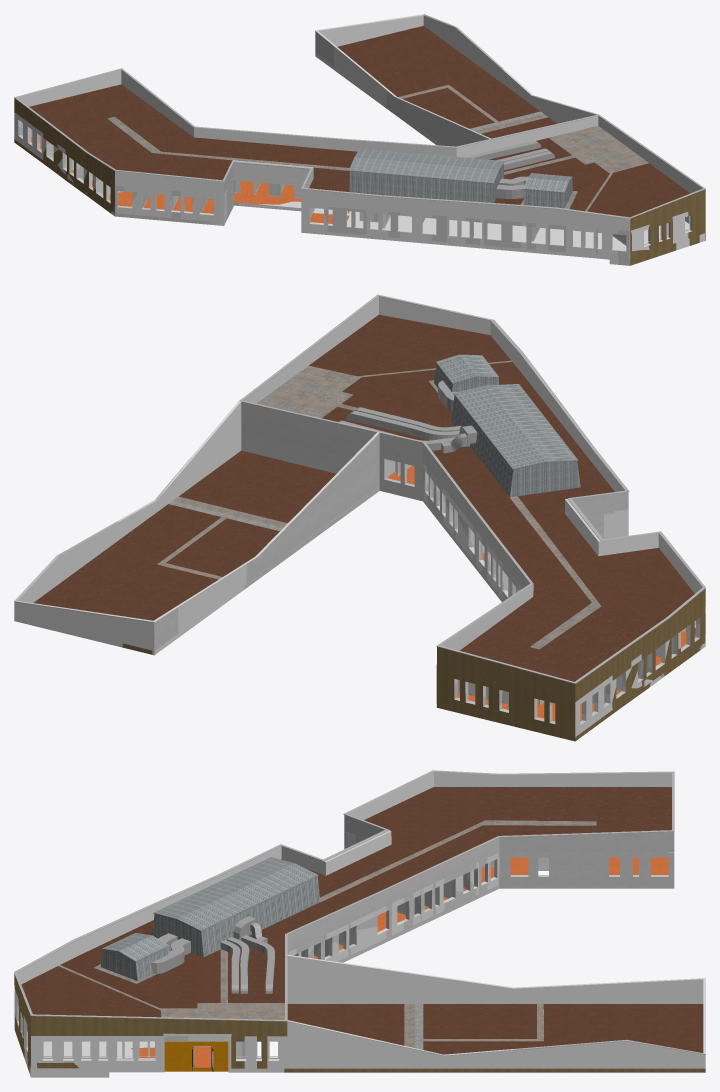
The model's file is 2_floor_aisle_a_sized.glb.
The picture shows the model from 3 angles, top to bottom: view 1: azimuth 30°, elevation 25°; view 2: azimuth 150°, elevation 25°; view 3: azimuth 270°, elevation 25°; orthographic projection. The views are drawn at different scales.
Visible parts, largest first — view 1: NOCOL_Toit, NOCOL_Murs_ext, SIMP_COL, NOCOL_Cube_130, NOCOL_Murs, NOCOL_Sol; view 2: NOCOL_Toit, NOCOL_Murs_ext, NOCOL_Murs, NOCOL_Cube_130, SIMP_COL, NOCOL_Sol; view 3: NOCOL_Toit, NOCOL_Murs_ext, SIMP_COL, NOCOL_Cube_130, NOCOL_Murs, NOCOL_Sol.
Boxes of the visible parts, x1,y1,x2,y2 form: NOCOL_Toit: (14,68,705,230); NOCOL_Murs_ext: (315,14,596,146); SIMP_COL: (14,14,704,264); NOCOL_Cube_130: (349,141,572,208); NOCOL_Murs: (18,122,705,257); NOCOL_Sol: (14,104,705,265); NOCOL_Toit: (239,294,705,702); NOCOL_Murs_ext: (14,402,379,650); NOCOL_Murs: (241,418,705,736); NOCOL_Cube_130: (338,354,580,497); SIMP_COL: (14,401,705,736); NOCOL_Sol: (122,465,701,741); NOCOL_Toit: (14,770,674,1036); NOCOL_Murs_ext: (287,959,705,1056); SIMP_COL: (14,832,705,1077); NOCOL_Cube_130: (100,857,320,993); NOCOL_Murs: (14,831,674,1068); NOCOL_Sol: (14,857,705,1072).
Size of what is drawn, in the model's own units: 51.18 by 7.01 by 59.67.
29 materials, 12 textured.
